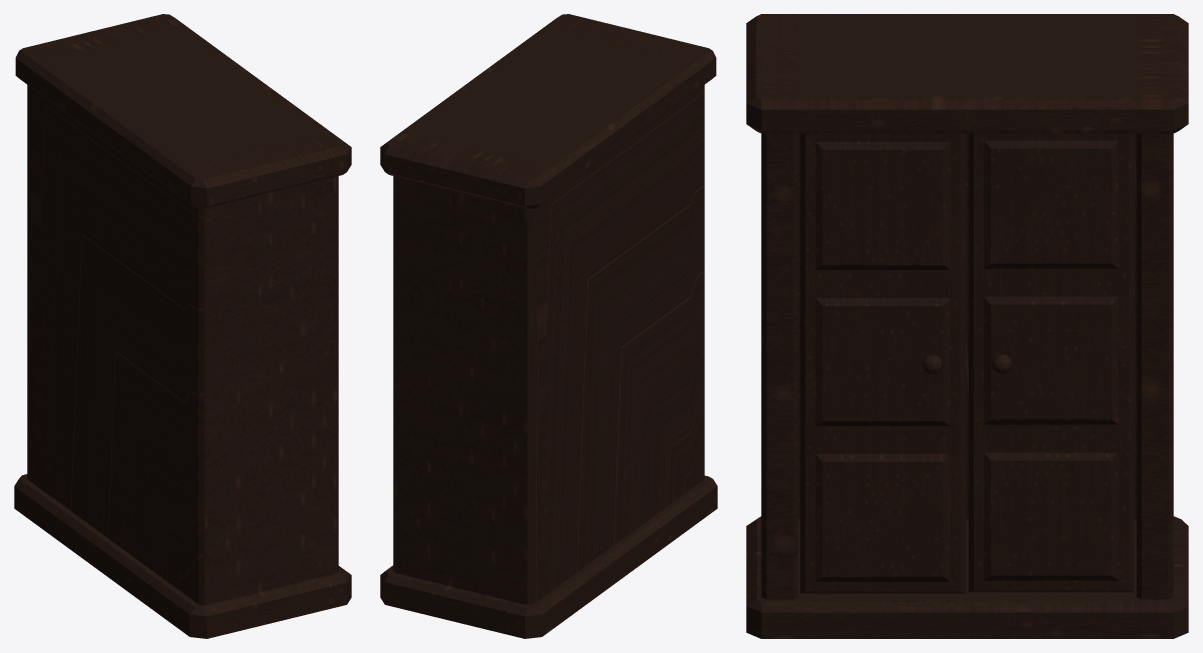
File: closet.fbx
3 views of the same model, side by side, from view 1: azimuth 30°, elevation 25°; view 2: azimuth 150°, elevation 25°; view 3: azimuth 270°, elevation 25° (orthographic). The views are drawn at different scales.
Visible parts, largest first — view 1: Shelf, Shelf.001, Shelf.002; view 2: Shelf, Shelf.001, Shelf.002; view 3: Shelf, Door 1, Door, Shelf.001, Shelf.002.
Part boxes in pixels (bbox=[...]): Shelf: bbox=[14, 14, 351, 638]; Shelf.001: bbox=[41, 95, 184, 594]; Shelf.002: bbox=[41, 97, 184, 593]; Shelf: bbox=[380, 14, 717, 638]; Shelf.001: bbox=[547, 95, 690, 593]; Shelf.002: bbox=[547, 95, 690, 591]; Shelf: bbox=[746, 14, 1188, 638]; Door 1: bbox=[968, 133, 1134, 592]; Door: bbox=[800, 133, 965, 593]; Shelf.001: bbox=[798, 133, 1136, 519]; Shelf.002: bbox=[798, 134, 1136, 514].
Size of the model in its own units: 151 by 399 by 298.
